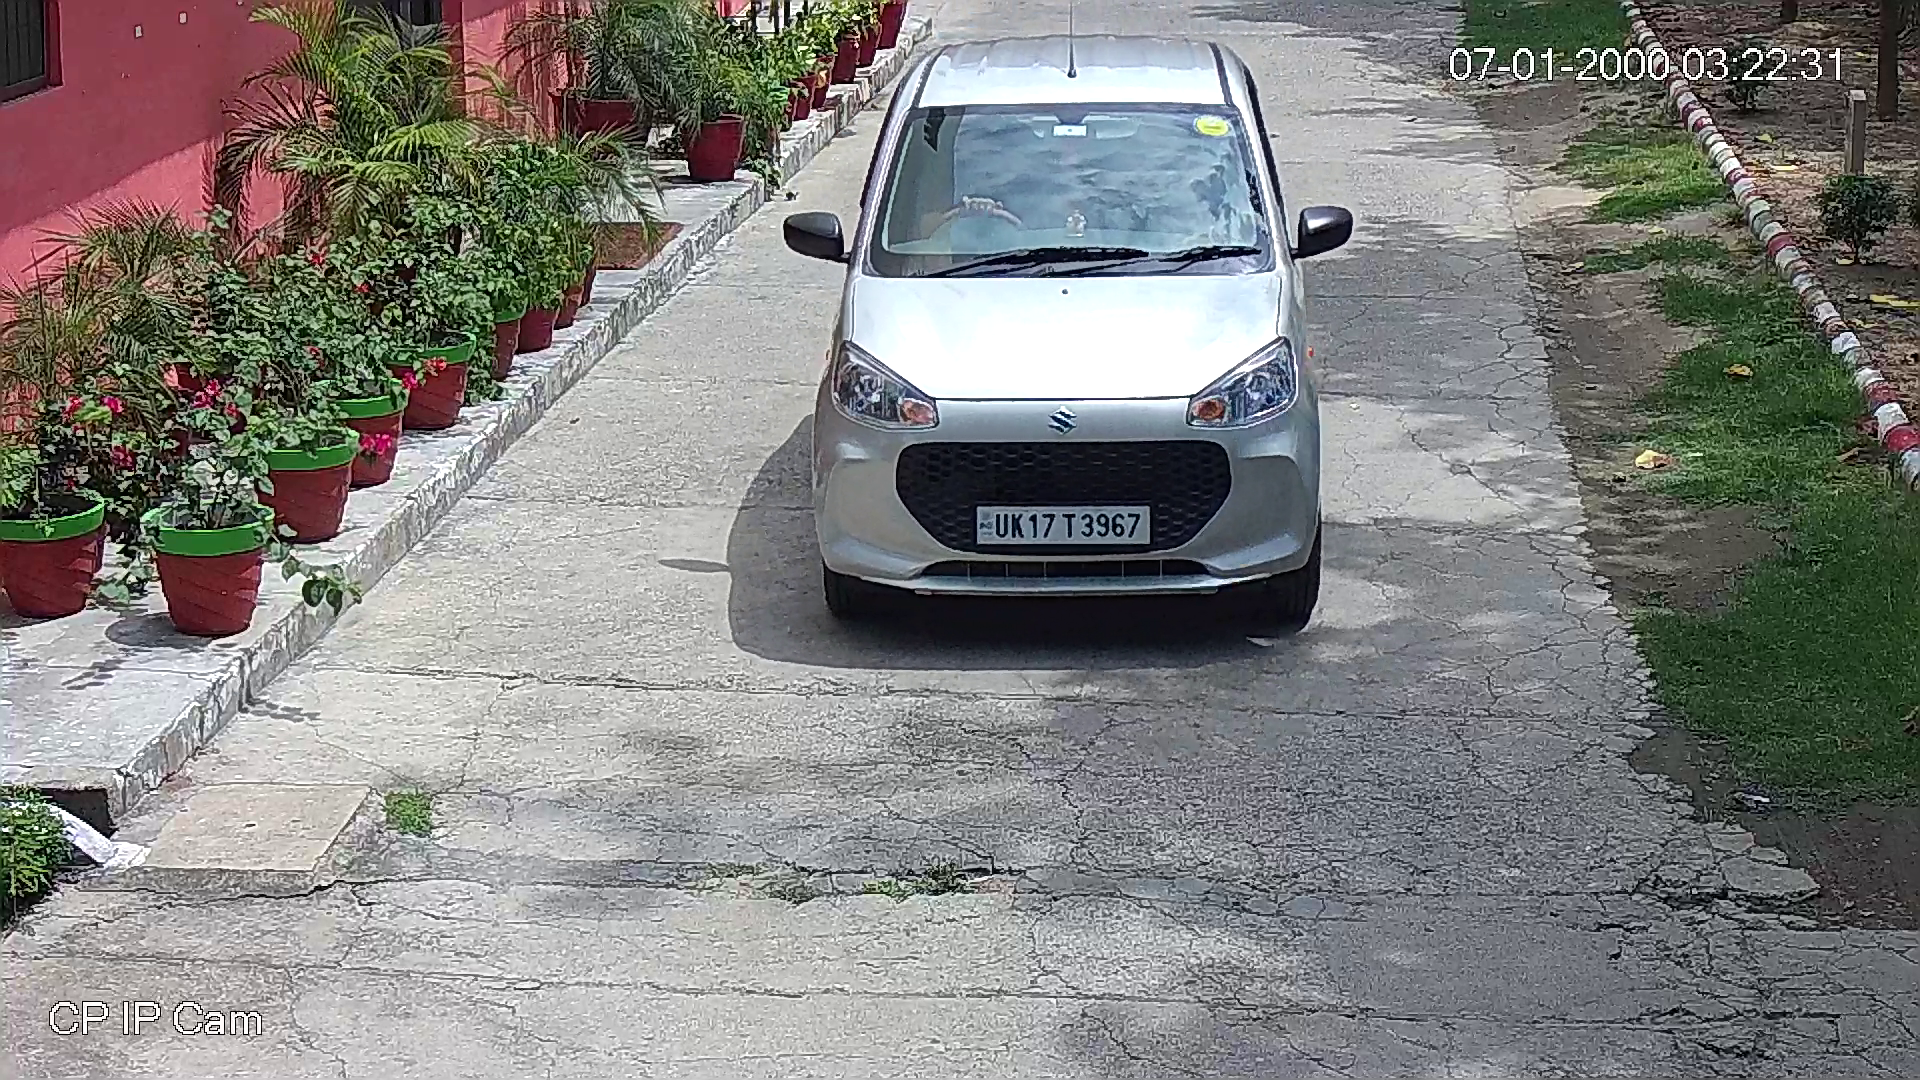plate: (976, 506, 1149, 543)
